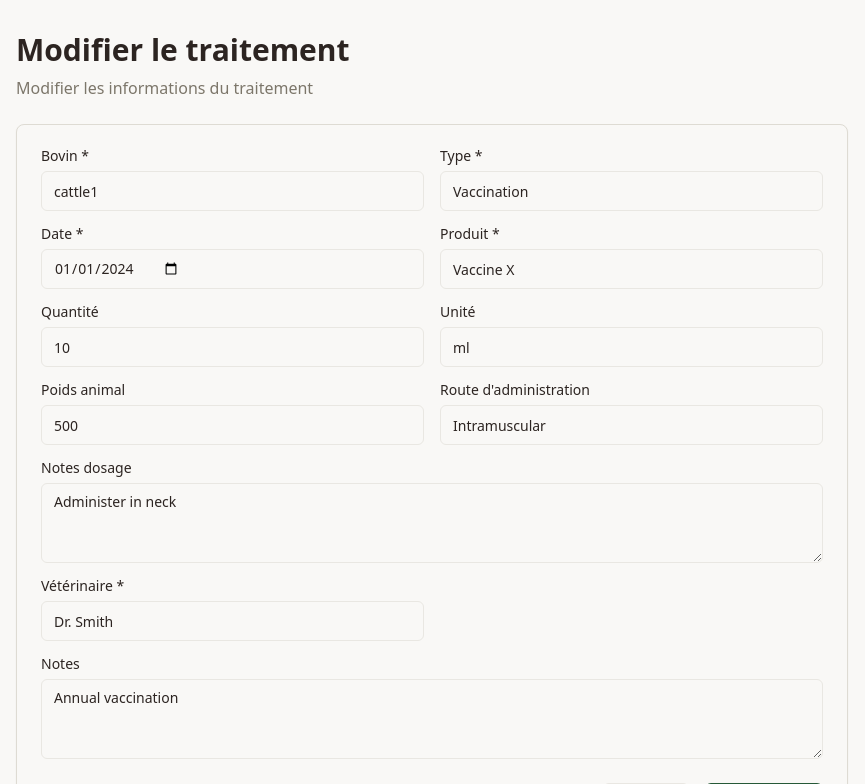
Scenario: TreatmentsEditPage › shows validation errors when submitting empty form
Note: Clear the required fields
Clear the field labelled "Bovin *" at (232, 191), box [41,171,424,211]
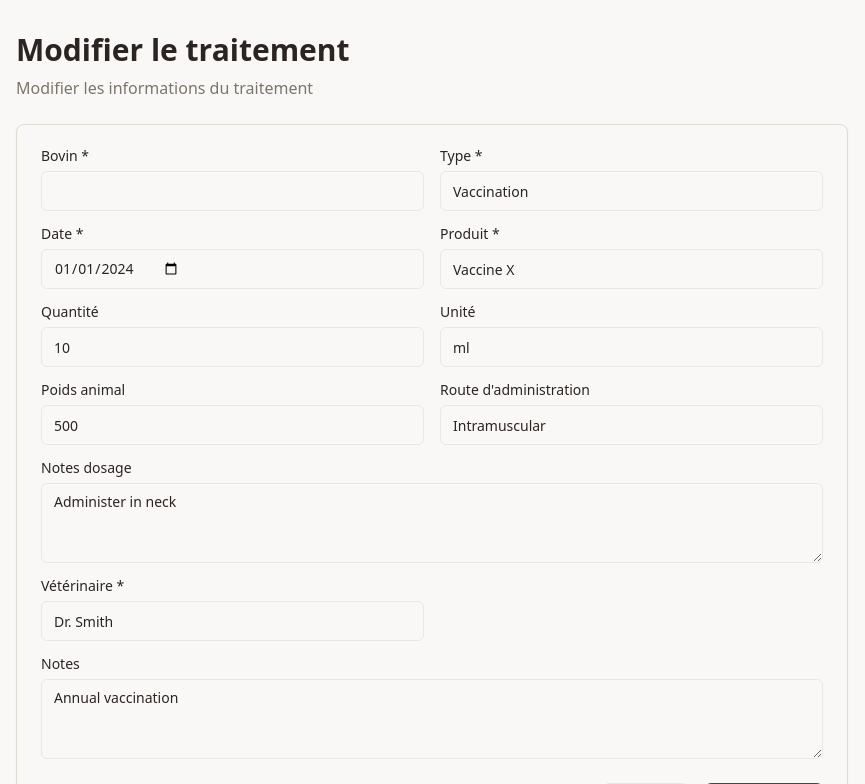
Clear the field labelled "Type *" at (632, 191), box [440,171,823,211]
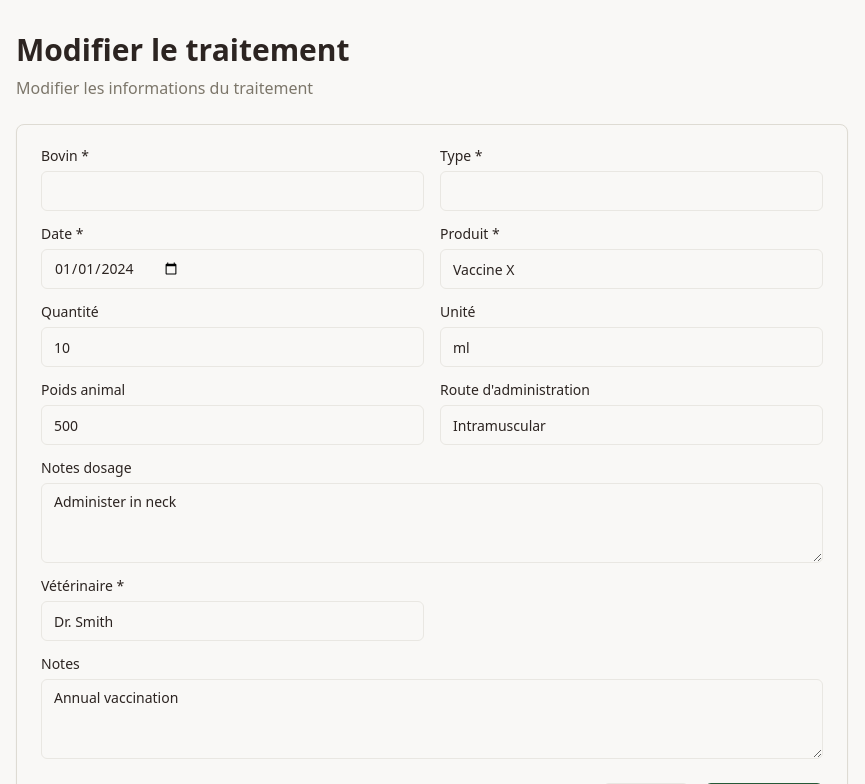
Clear the date field labelled "Date *" at (232, 269), box [41,249,424,289]
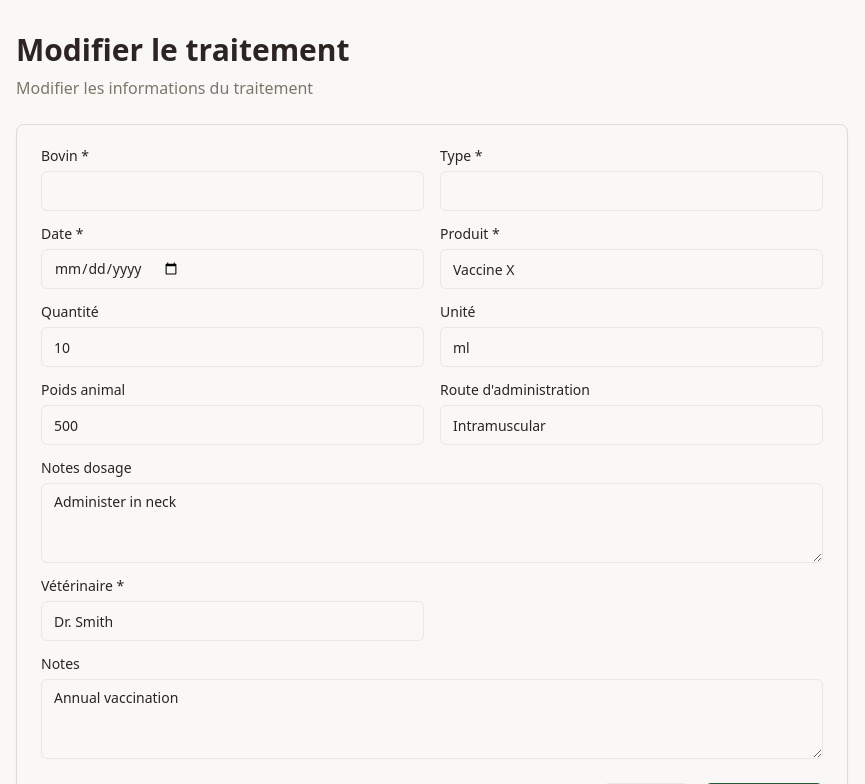
Clear the field labelled "Produit *" at (632, 269), box [440,249,823,289]
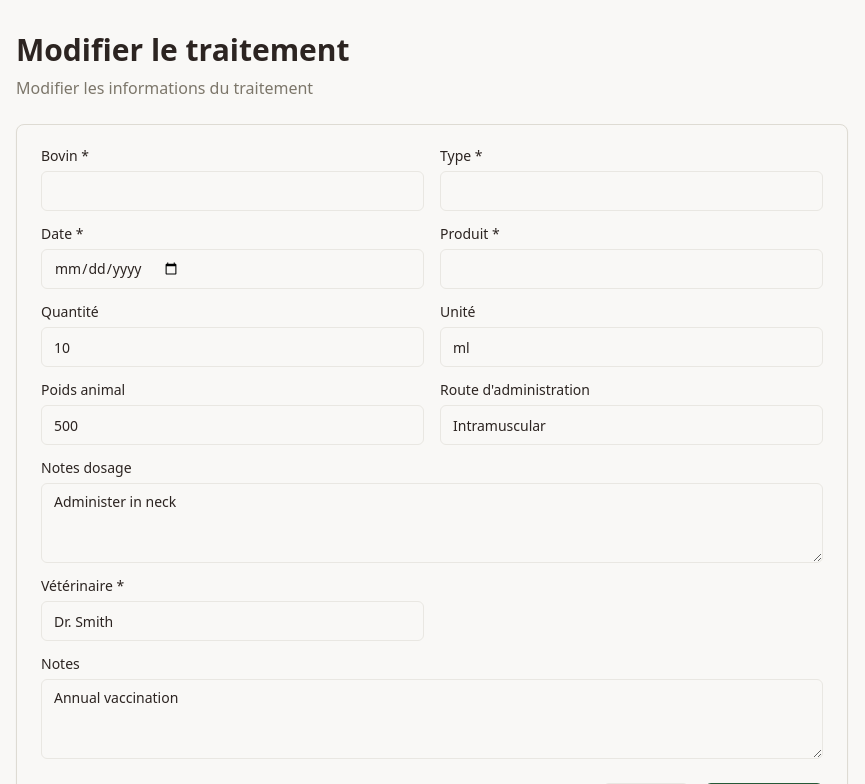
Clear the field labelled "Vétérinaire *" at (232, 621), box [41,601,424,641]
(page scrolled)
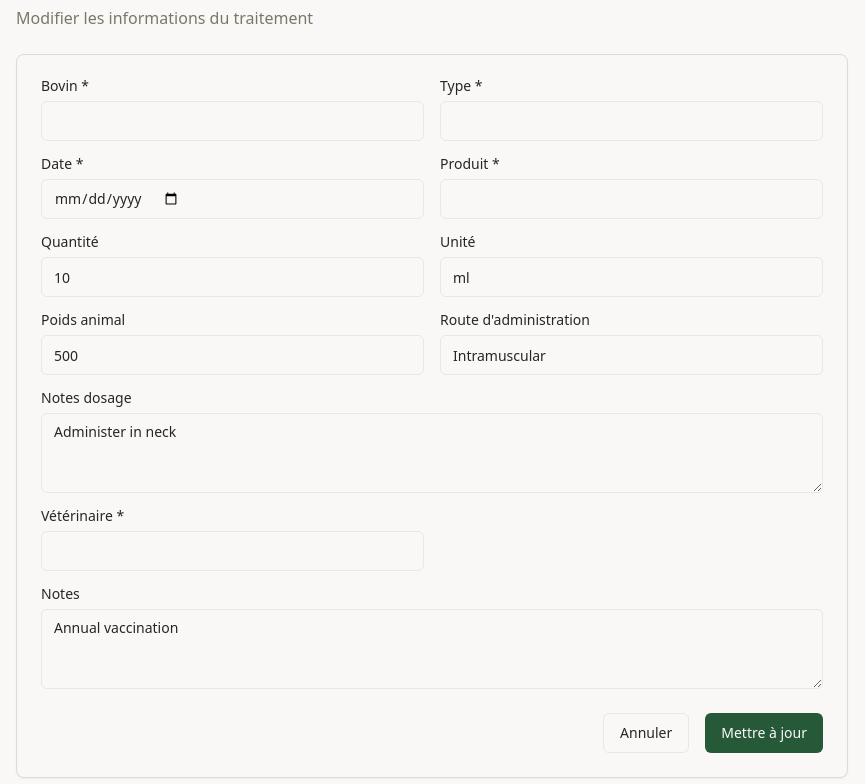
Click the button "Mettre à jour" at (764, 733), box [705,713,823,753]
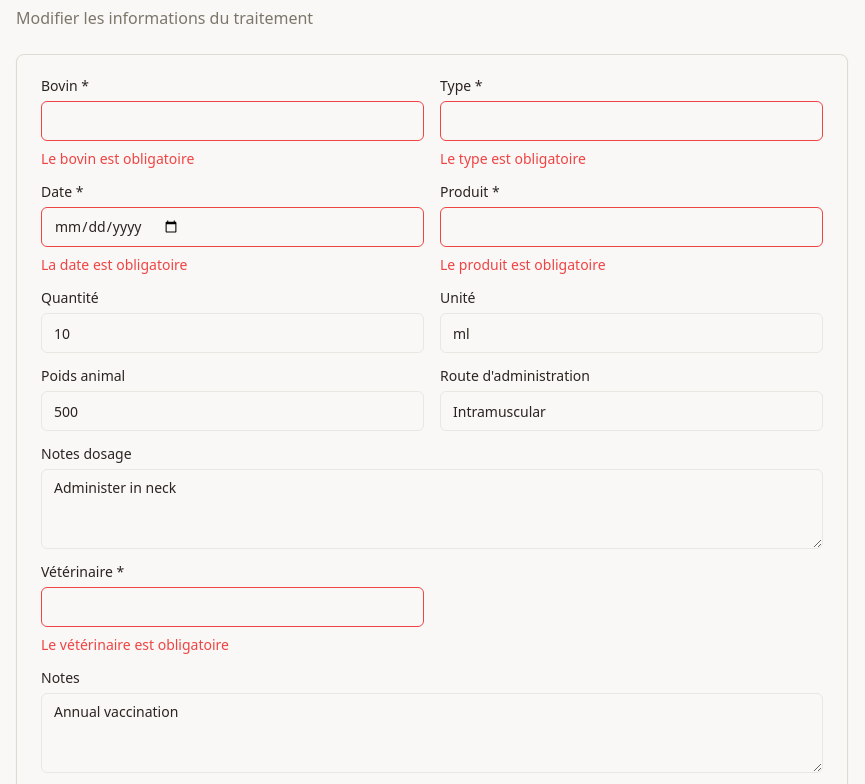
Now the text "Le bovin est obligatoire" is shown, box [41,149,194,168]
Now the text "Le type est obligatoire" is shown, box [440,149,586,168]
Now the text "La date est obligatoire" is shown, box [41,255,188,274]
